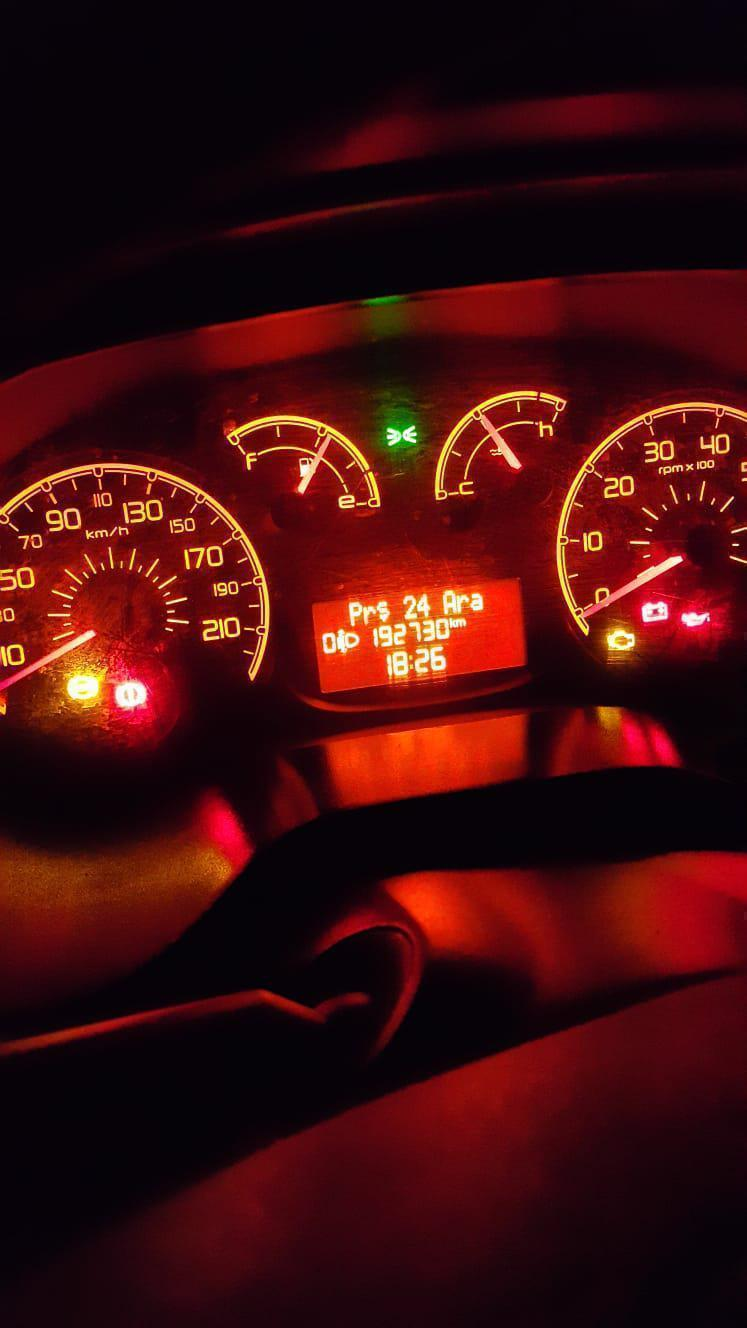0: (321, 630, 336, 654), (435, 617, 449, 640)
1: (385, 653, 393, 679), (371, 626, 379, 650)
2: (414, 645, 429, 675), (402, 594, 417, 620), (393, 622, 406, 646)
3: (423, 619, 434, 642)
4: (418, 592, 431, 617)
6: (430, 645, 447, 671)
7: (409, 621, 422, 642)
8: (393, 651, 408, 677)
9: (380, 624, 393, 649)
X: (347, 599, 362, 625), (442, 589, 457, 614), (376, 600, 389, 621), (363, 605, 376, 624), (470, 592, 483, 610), (457, 593, 469, 612), (456, 617, 467, 629), (408, 652, 414, 671), (449, 616, 456, 628)
odometer: (302, 573, 531, 698)
